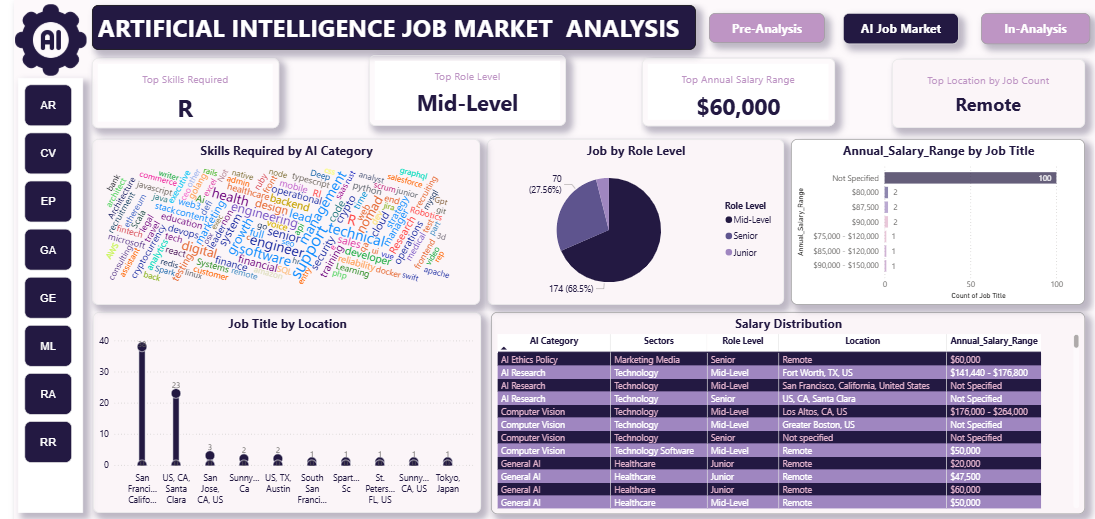

The page's visual inventory and layout, read from the dashboard file:
{"tool":"powerbi","page":{"name":"SKILLS AND ROLE","canvas":[1700,800],"ordinal":1},"visuals":[{"type":"group","id":"g1","title":"Group 1","box":[12.3,0,1688.1,800],"z":0},{"type":"shape","box":[27.2,0,1673.1,800],"z":0,"group":"g1"},{"type":"ChicletSlicer1448559807354","fields":{"Category":["AI_Categories_Abbrev.Abbrev"]},"box":[33.2,119.4,100,668.7],"z":1000,"group":"g1"},{"type":"columnChart","title":"Job Title by Location","fields":{"Category":["General_Table.Location"],"Y":["CountNonNull(General_Table.Job Title)"]},"box":[149.2,480,596.9,309.2],"z":1000},{"type":"image","box":[12.3,1.5,144.6,120],"z":2000,"group":"g1"},{"type":"WordCloud1447959067750","title":"Skills Required by AI Category","fields":{"Category":["General_Table.Skills Required"],"Values":["Min(General_Table.Skills Required)"]},"box":[147.7,213.8,596.9,255.4],"z":2000},{"type":"textbox","box":[147.7,7.7,929.2,69.2],"z":3000,"group":"g1"},{"type":"cardVisual","fields":{"Data":["General_Table.Top Skills Required"]},"box":[147.7,89.2,287.7,107.7],"z":3000},{"type":"cardVisual","fields":{"Data":["General_Table.Top Location by Job Count"]},"box":[1378.5,90.8,296.9,106.2],"z":4000},{"type":"cardVisual","fields":{"Data":["General_Table.Top Annual Salary Range"]},"box":[993.8,89.2,296.9,104.6],"z":5000},{"type":"pieChart","title":"Job by Role Level","fields":{"Category":["General_Table.Role Level"],"Y":["CountNonNull(General_Table.Job Title)"]},"box":[754.9,213.8,456.9,255.4],"z":5000,"group":"g1"},{"type":"cardVisual","fields":{"Data":["General_Table.Top Role Level"]},"box":[573.8,84.6,303.1,109.2],"z":6000},{"type":"actionButton","title":"Pre-Analysis","box":[1096.9,20,178.5,46.2],"z":8000},{"type":"actionButton","box":[1303.1,20,178.5,47.7],"z":9000},{"type":"tableEx","title":"Salary Distribution","fields":{"Values":["AI_Categories_Abbrev.AI Category","Dim_Sector.Sectors","General_Table.Role Level","General_Table.Location","General_Table.Annual_Salary_Range"]},"box":[761.1,480,913.8,310.8],"z":9001,"group":"g1"},{"type":"actionButton","box":[1515.4,20,167.7,47.7],"z":10000},{"type":"barChart","title":" Annual_Salary_Range by Job Title ","fields":{"Category":["General_Table.Annual_Salary_Range"],"Y":["CountNonNull(General_Table.Job Title)"]},"box":[1223.1,213.8,452.3,255.4],"z":11000}]}

Visuals, with their boxes in screenshot pixels (x1, y1, x2, y2), scaled from the page's 1700x800 canvas onto the 1095x519 screenshot:
"Group 1" group: {"x1": 8, "y1": 0, "x2": 1094, "y2": 518}
shape: {"x1": 18, "y1": 0, "x2": 1094, "y2": 518}
ChicletSlicer1448559807354 - AI_Categories_Abbrev.Abbrev: {"x1": 21, "y1": 77, "x2": 86, "y2": 511}
"Job Title by Location" columnChart: {"x1": 96, "y1": 311, "x2": 481, "y2": 512}
image: {"x1": 8, "y1": 1, "x2": 101, "y2": 79}
"Skills Required by AI Category" WordCloud1447959067750: {"x1": 95, "y1": 139, "x2": 480, "y2": 304}
textbox: {"x1": 95, "y1": 5, "x2": 694, "y2": 50}
cardVisual - General_Table.Top Skills Required: {"x1": 95, "y1": 58, "x2": 280, "y2": 128}
cardVisual - General_Table.Top Location by Job Count: {"x1": 888, "y1": 59, "x2": 1079, "y2": 128}
cardVisual - General_Table.Top Annual Salary Range: {"x1": 640, "y1": 58, "x2": 831, "y2": 126}
"Job by Role Level" pieChart: {"x1": 486, "y1": 139, "x2": 781, "y2": 304}
cardVisual - General_Table.Top Role Level: {"x1": 370, "y1": 55, "x2": 565, "y2": 126}
"Pre-Analysis" actionButton: {"x1": 707, "y1": 13, "x2": 822, "y2": 43}
actionButton: {"x1": 839, "y1": 13, "x2": 954, "y2": 44}
"Salary Distribution" tableEx: {"x1": 490, "y1": 311, "x2": 1079, "y2": 513}
actionButton: {"x1": 976, "y1": 13, "x2": 1084, "y2": 44}
" Annual_Salary_Range by Job Title " barChart: {"x1": 788, "y1": 139, "x2": 1079, "y2": 304}
